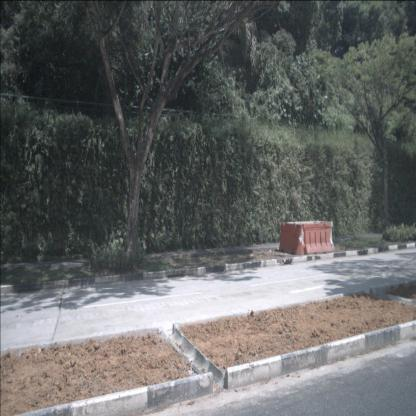barrier: (302, 223, 332, 255), (279, 223, 304, 256), (314, 221, 335, 249), (288, 222, 313, 244)
